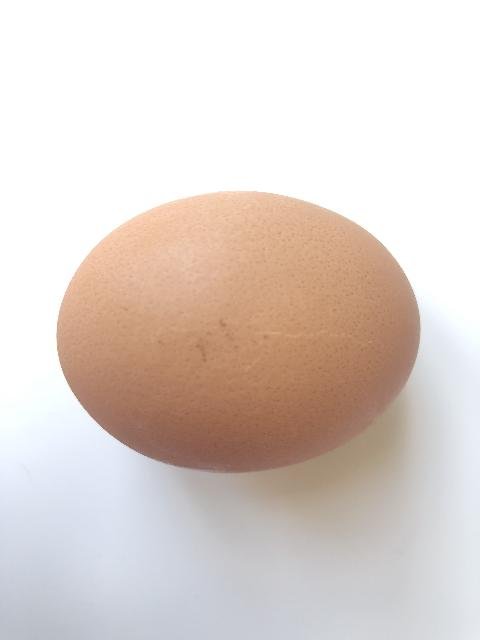Roto: (56, 190, 423, 473)
